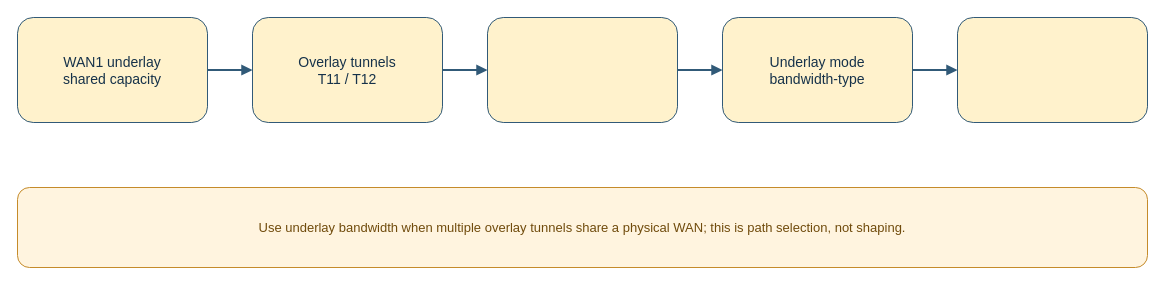
Image size: 1165x285. Some labels were removed from this diagram. Each missing label, with the box of its shape:
SD-WAN service bibandwidth hash: (486, 16, 678, 122)
Selected tunnel new sessions: (956, 16, 1148, 122)
